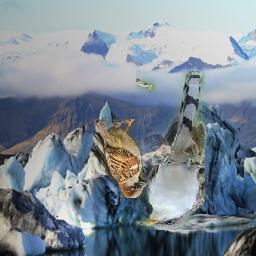Cuckoo: (137, 72, 206, 231)
Sparrow: (94, 120, 148, 199)
